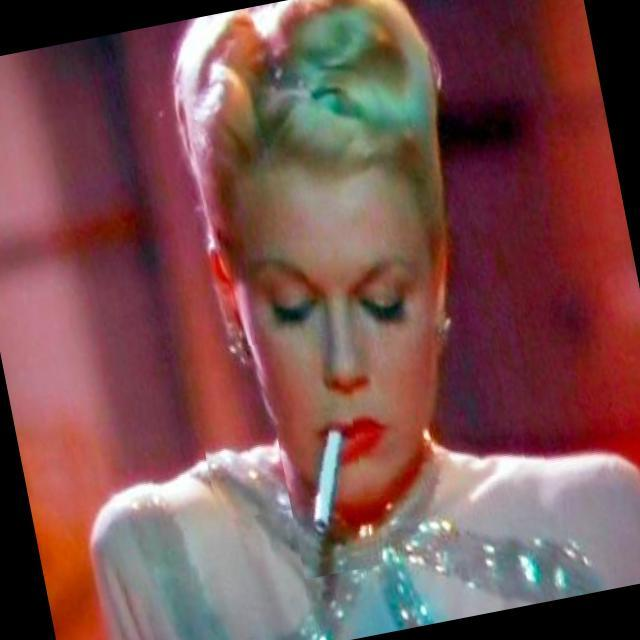cigarette: (274, 406, 382, 580)
